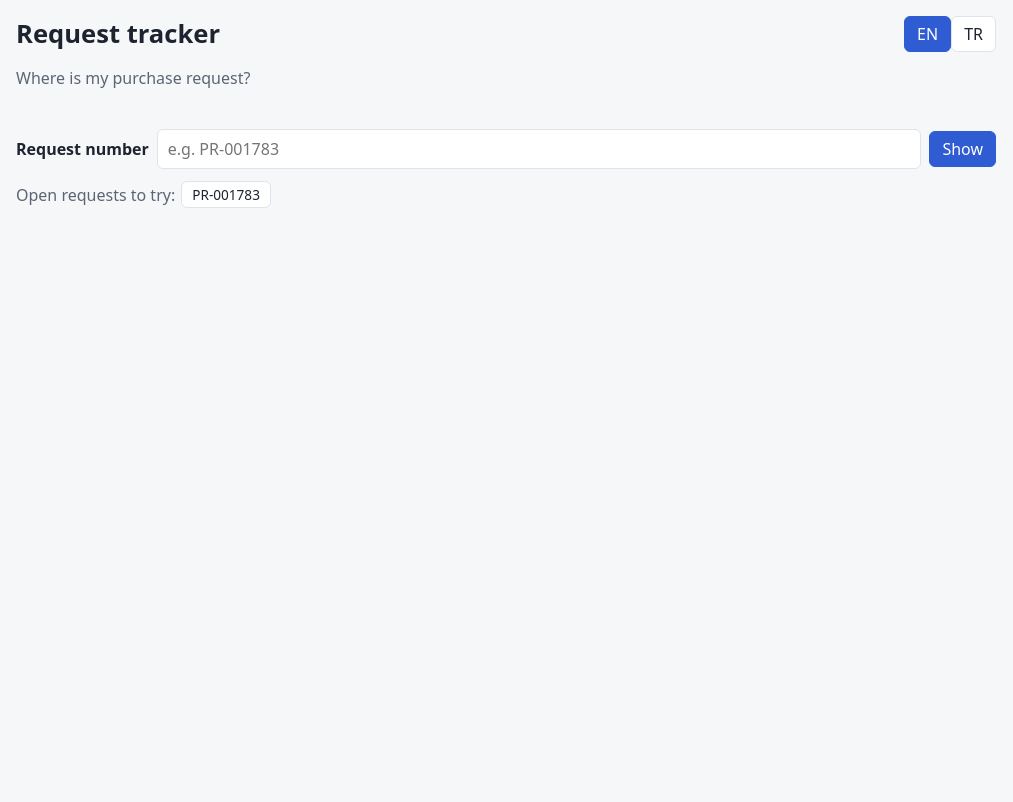
Test: RequestTracker › formats every reason code
This screenshot has width=1013, height=802.
In the field labelled "Request number": (539, 149) 157,129 -> 921,169, type "PR-001783"
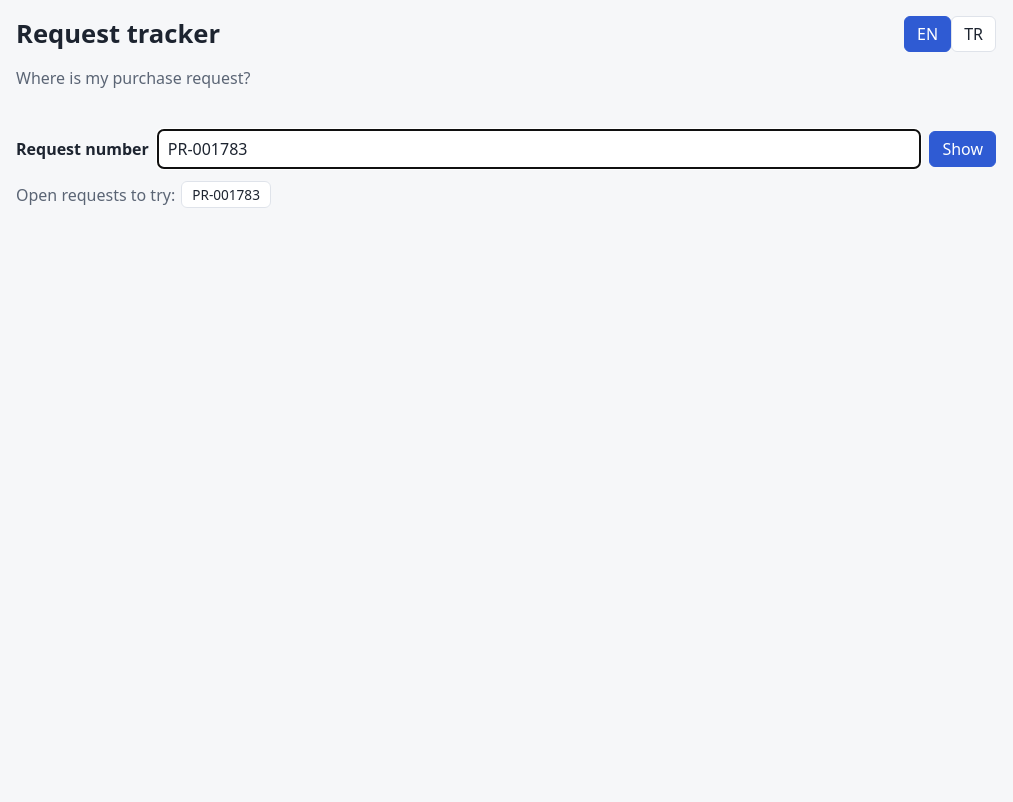
Click the button "Show": (963, 149) 929,131 -> 996,167
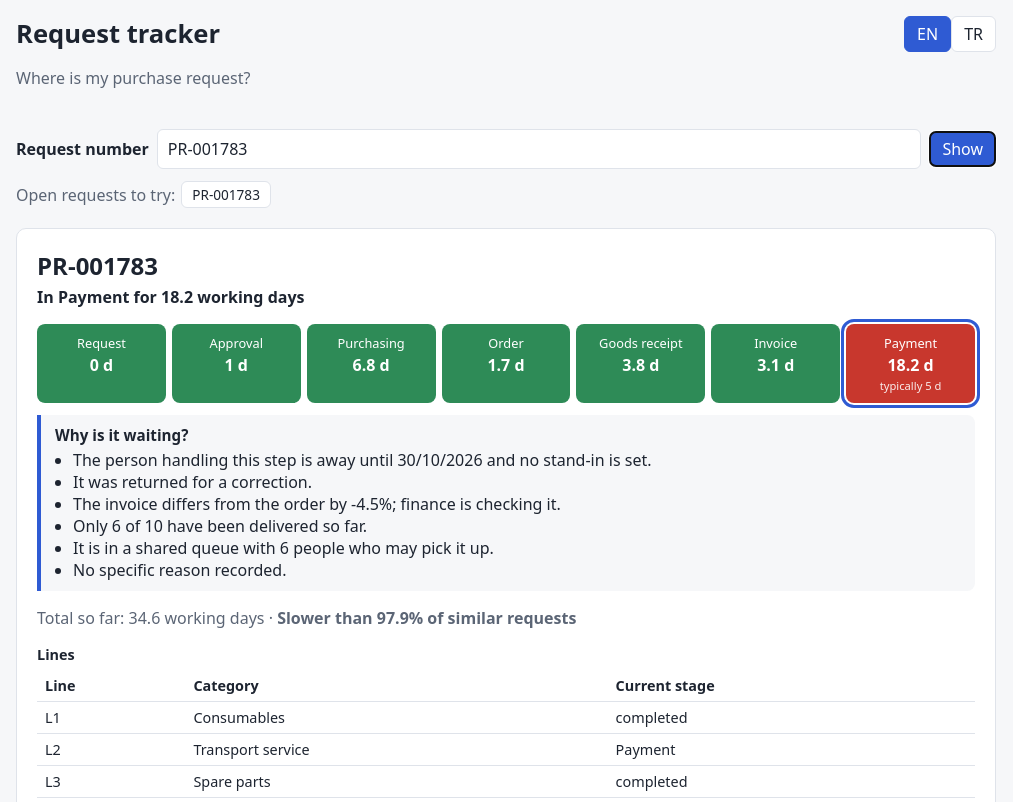
expect the list item "away until 30/10/2026" is shown: met, box 73,449 -> 652,471
expect the list item "It was returned for a correction." is shown: met, box 73,471 -> 312,493
expect the list item "differs from the order by -4.5%" is shown: met, box 73,493 -> 561,515
